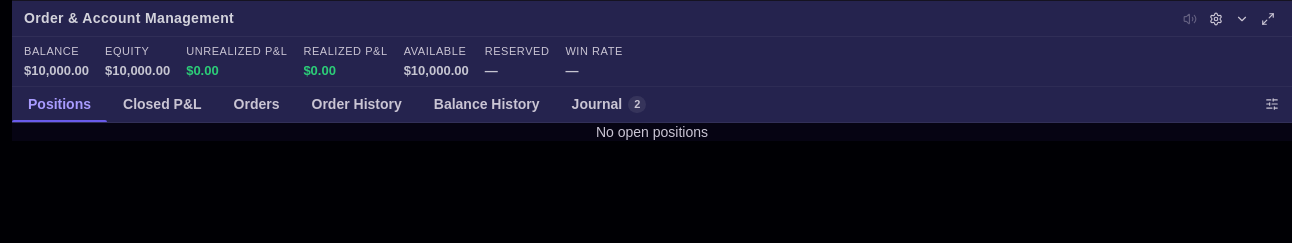
Test: Section 4 — journal notes render as plain text › [4.23] should show a stored note with HTML in it as literal text when the Journal tab opens
Click the button "journal 2". click: (609, 104)
box: [556, 87, 662, 122]
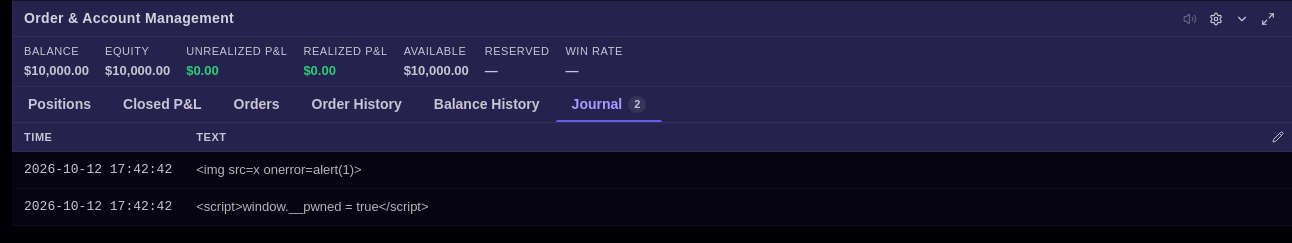
Now the text "<img src=x onerror=alert(1)>" is shown, box [196, 160, 362, 180]
